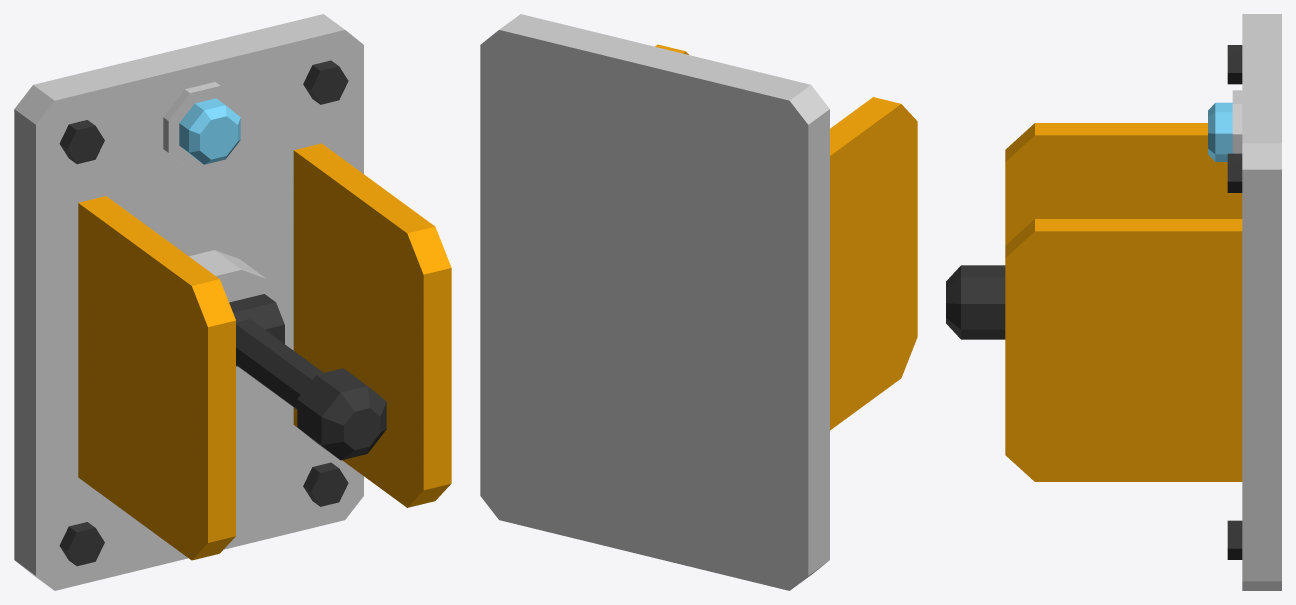
The model's file is ai_toggle_switch.glb.
3 renders of one model, left to right at view 1: azimuth 30°, elevation 25°; view 2: azimuth 150°, elevation 25°; view 3: azimuth 270°, elevation 25°, orthographic. The views are drawn at different scales.
Visible parts, largest first — view 1: Housing, Guard, Switch, Bolts, IndicatorLight; view 2: Housing, Guard; view 3: Guard, Housing, Switch, Bolts, IndicatorLight.
Part boxes in pixels (x1=…): Housing: x1=14, y1=14, x2=363, y2=590; Guard: x1=78, y1=143, x2=451, y2=560; Switch: x1=229, y1=294, x2=386, y2=460; Bolts: x1=59, y1=60, x2=348, y2=566; IndicatorLight: x1=179, y1=98, x2=240, y2=164; Housing: x1=480, y1=14, x2=829, y2=590; Guard: x1=655, y1=44, x2=917, y2=430; Guard: x1=1005, y1=123, x2=1242, y2=481; Housing: x1=1232, y1=14, x2=1281, y2=590; Switch: x1=946, y1=265, x2=1005, y2=339; Bolts: x1=1227, y1=45, x2=1242, y2=559; IndicatorLight: x1=1208, y1=102, x2=1232, y2=161.
Bounding box in the file's own units: 0.07 × 0.1 × 0.068.
